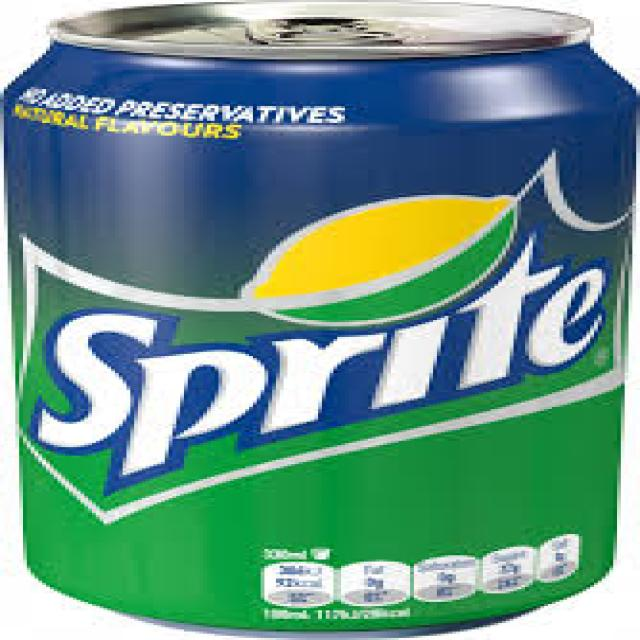aluminum_can: (4, 2, 636, 632)
